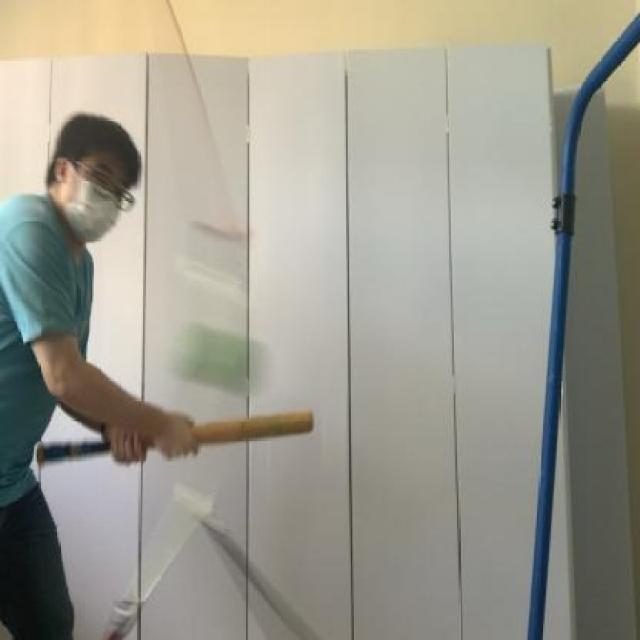baseball: (155, 301, 287, 414)
